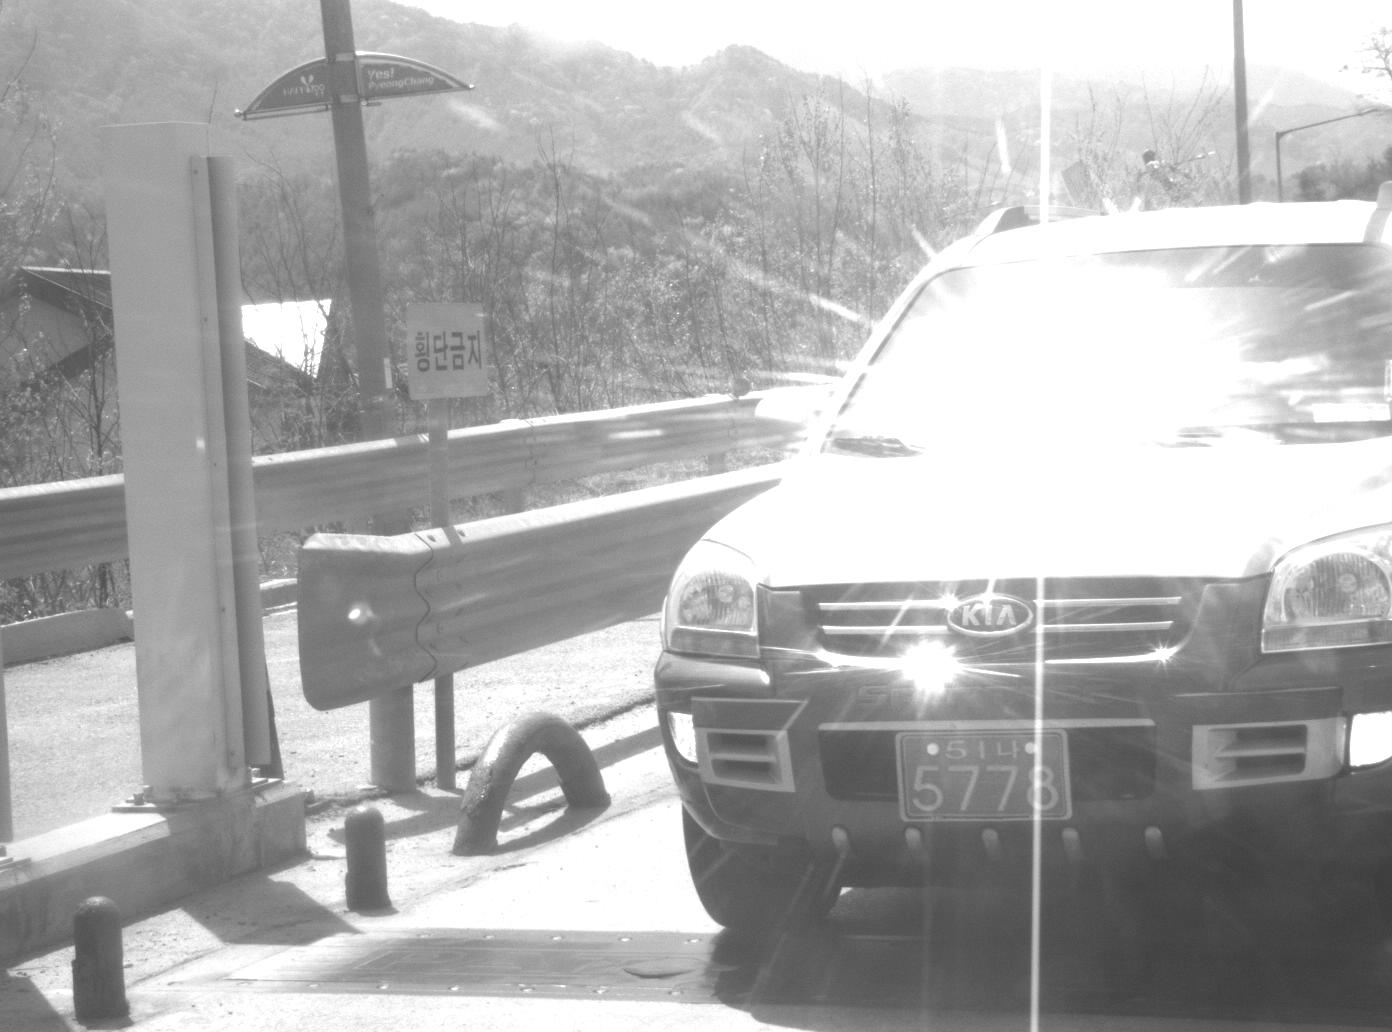car: (652, 197, 1392, 938)
plate: (894, 727, 1071, 820)
